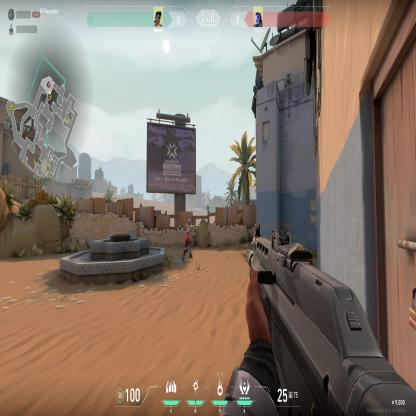enemy: (181, 217, 196, 264)
